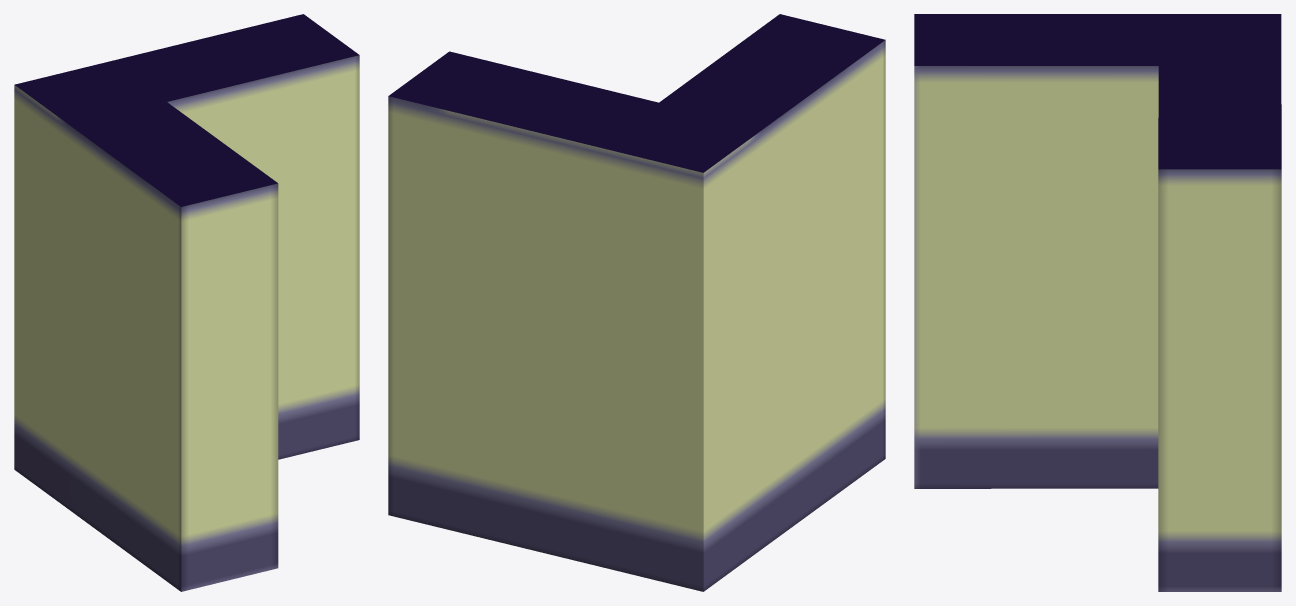
Rendered from BrickWallCorner.fbx.
3 views of the same model, side by side, from view 1: azimuth 30°, elevation 25°; view 2: azimuth 150°, elevation 25°; view 3: azimuth 270°, elevation 25° (orthographic). The views are drawn at different scales.
Parts seen in each view (by area): view 1: BrickWallCorner; view 2: BrickWallCorner; view 3: BrickWallCorner.
Boxes of the visible parts, box(x1,y1,x2,y2) form: BrickWallCorner: box(14, 14, 359, 591); BrickWallCorner: box(388, 14, 885, 591); BrickWallCorner: box(914, 14, 1281, 591).
Size of the model in its own units: 360 by 458 by 360.
